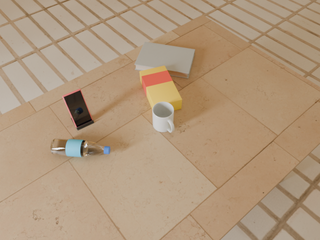book: (135, 42, 195, 78)
bottle: (50, 138, 110, 157)
box: (140, 65, 182, 110)
cup: (152, 101, 174, 132)
phone: (62, 89, 92, 127)
